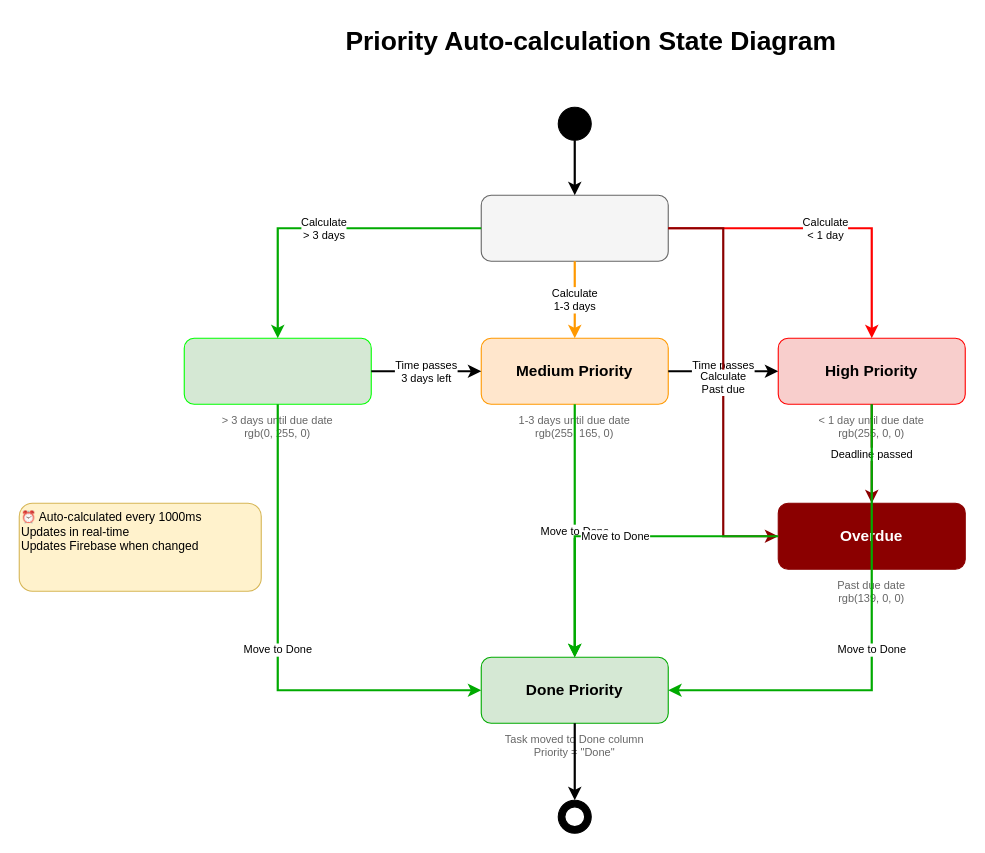
The diagram is 985 pixels wide and 853 high, and some of its shapes have lost their labels. Each missing label, with the centre of its shape:
"Low Priority" belongs at [277,370].
"Task Created" belongs at [574,227].
